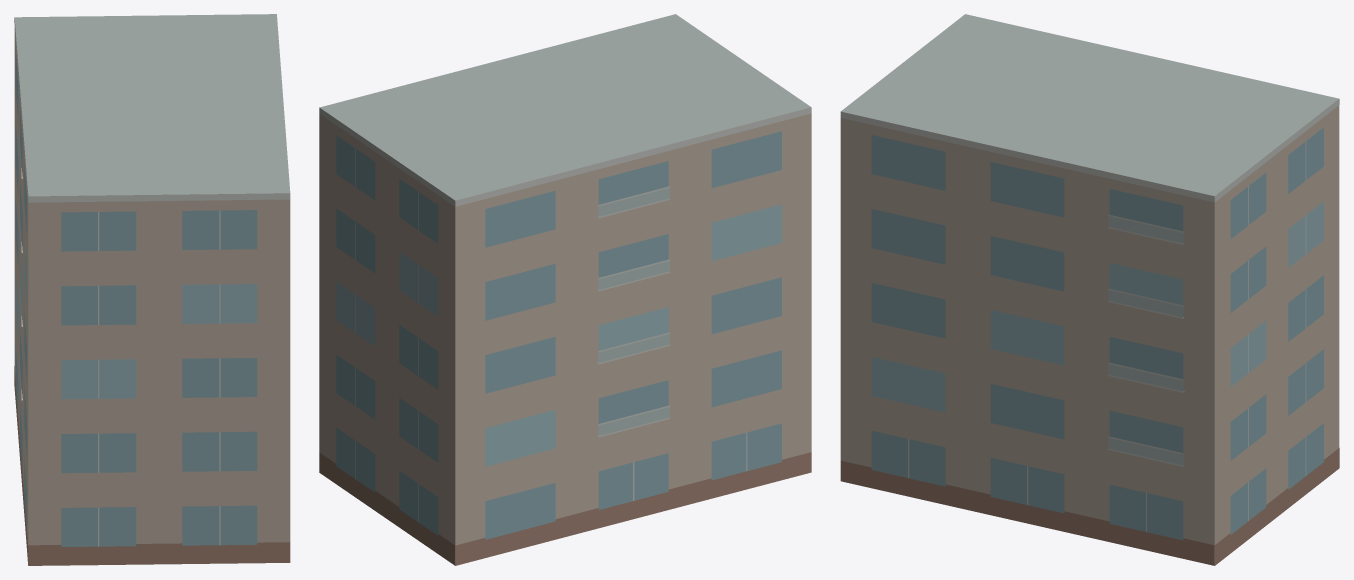
Rendered from survey-upis-32823323.glb.
The picture shows the model from 3 angles, left to right: view 1: azimuth 30°, elevation 25°; view 2: azimuth 150°, elevation 25°; view 3: azimuth 270°, elevation 25°; orthographic projection.
Parts seen in each view (by area): view 1: survey-upis-32823323.tmp; view 2: survey-upis-32823323.tmp; view 3: survey-upis-32823323.tmp.
Part boxes in pixels (x1,y1,x2,y2): survey-upis-32823323.tmp: (14, 14, 290, 565); survey-upis-32823323.tmp: (319, 14, 811, 565); survey-upis-32823323.tmp: (840, 14, 1339, 565).
Size of the model in its own units: 15.34 by 14.5 by 17.74.
